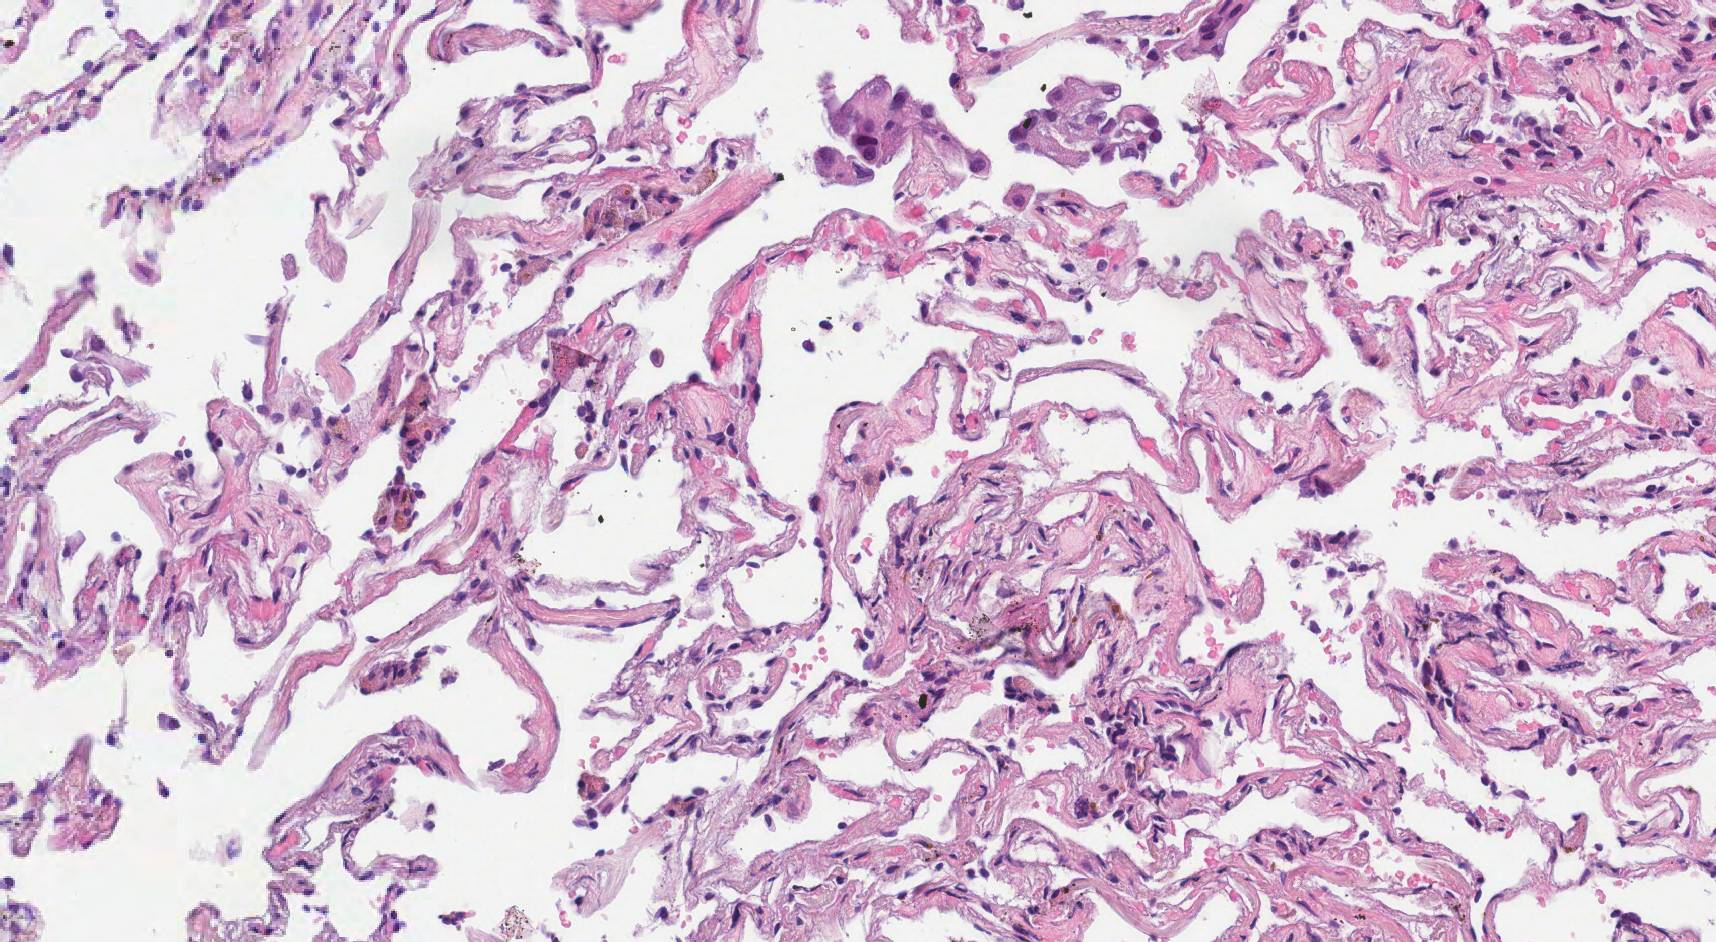stas: (811, 70, 989, 191), (1005, 72, 1165, 170), (807, 141, 879, 187)
